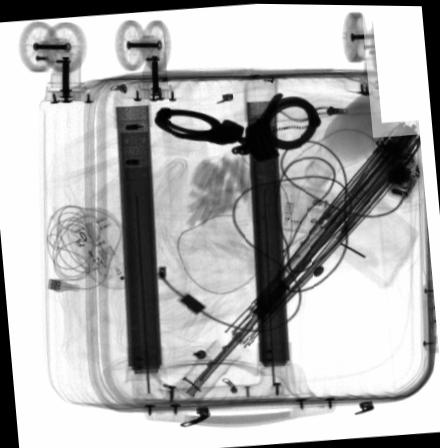HandCuffs: (149, 91, 322, 162)
